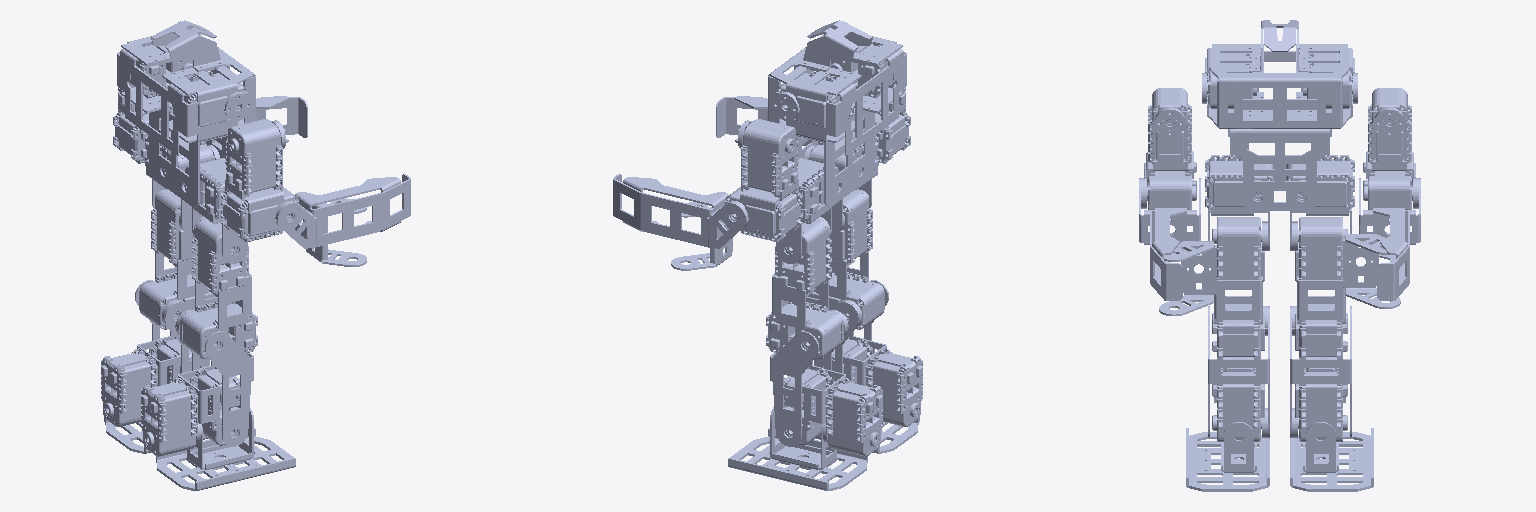
--- Facts derived from the render (not from the file) ---
The picture shows the robot from 3 angles, left to right: view 1: azimuth 30°, elevation 25°; view 2: azimuth 150°, elevation 25°; view 3: azimuth 270°, elevation 25°; orthographic projection.
Model BioloidGP1 with 18 links and 17 joints (16 continuous, 1 fixed), rooted at base_link, posed all joints at 0.
Links seen in each view (by area): view 1: base_link, right_arm_link_2, right_leg_link_2, right_leg_link_4, right_arm_link_3, left_leg_link_2, right_leg_link_5, left_leg_link_4, right_leg_link_3, torso_link, right_leg_link_1, left_arm_link_2 (+5 smaller); view 2: base_link, left_arm_link_2, left_leg_link_2, left_leg_link_4, left_arm_link_3, right_leg_link_2, left_leg_link_5, right_leg_link_4, left_leg_link_3, torso_link, left_leg_link_1, right_arm_link_2 (+5 smaller); view 3: base_link, right_leg_link_2, left_leg_link_2, torso_link, right_arm_link_2, left_arm_link_2, right_leg_link_5, left_leg_link_5, right_arm_link_3, left_arm_link_3, right_leg_link_4, left_leg_link_4 (+6 smaller).
Link boxes in pixels (x1,y1,x2,y2): base_link: (117, 20, 255, 155); right_arm_link_2: (221, 119, 298, 241); right_leg_link_2: (176, 217, 257, 358); right_leg_link_4: (141, 367, 239, 456); right_arm_link_3: (277, 174, 410, 248); left_leg_link_2: (139, 189, 215, 329); right_leg_link_5: (156, 407, 295, 490); left_leg_link_4: (101, 337, 191, 426); right_leg_link_3: (175, 310, 253, 446); torso_link: (149, 108, 227, 207); right_leg_link_1: (185, 158, 247, 263); left_arm_link_2: (113, 87, 169, 163); base_link: (768, 20, 906, 155); left_arm_link_2: (725, 119, 802, 241); left_leg_link_2: (766, 217, 847, 358); left_leg_link_4: (784, 367, 882, 456); left_arm_link_3: (613, 174, 746, 248); right_leg_link_2: (808, 189, 884, 329); left_leg_link_5: (728, 407, 867, 490); right_leg_link_4: (832, 337, 922, 426); left_leg_link_3: (770, 310, 848, 446); torso_link: (796, 108, 874, 207); left_leg_link_1: (776, 158, 838, 263); right_arm_link_2: (854, 87, 910, 163); base_link: (1202, 20, 1357, 128); right_leg_link_2: (1212, 217, 1267, 359); left_leg_link_2: (1292, 217, 1347, 359); torso_link: (1228, 110, 1331, 210); right_arm_link_2: (1141, 88, 1196, 209); left_arm_link_2: (1363, 88, 1418, 209); right_leg_link_5: (1186, 422, 1269, 491); left_leg_link_5: (1290, 422, 1373, 491); right_arm_link_3: (1139, 178, 1200, 300); left_arm_link_3: (1359, 178, 1420, 300); right_leg_link_4: (1212, 357, 1267, 441); left_leg_link_4: (1292, 357, 1347, 441).
Size in the robot's own frame: 0.1955 by 0.204 by 0.3451 metres.
Meshes: 18 distinct files referenced, 18 mesh visuals loaded (18 binary STL).

robot.urdf — BioloidGP1:
<?xml version="1.0" encoding="utf-8"?>
<!-- This URDF was automatically created by SolidWorks to URDF Exporter! Originally created by Stephen Brawner ([email redacted]) 
     Commit Version: 1.5.0-0-g9aa0fdb  Build Version: 1.5.7004.21443
     For more information, please see http://wiki.ros.org/sw_urdf_exporter -->
<robot
  name="BioloidGP1">
  <link
    name="base_link">
    <inertial>
      <origin
        xyz="-0.0035591008299314 -8.90355070053139E-10 0.00276509793124121"
        rpy="0 0 0" />
      <mass
        value="0.112944377177652" />
      <inertia
        ixx="0.000168605700838162"
        ixy="6.06749094591301E-14"
        ixz="-6.6677759445824E-07"
        iyy="4.75792084333204E-05"
        iyz="1.02293920813143E-07"
        izz="0.000181735093916493" />
    </inertial>
    <visual>
      <origin
        xyz="0 0 0"
        rpy="0 0 0" />
      <geometry>
        <mesh
          filename="package://BioloidGP1/meshes/base_link.STL" />
      </geometry>
      <material
        name="">
        <color
          rgba="0.792156862745098 0.819607843137255 0.933333333333333 1" />
      </material>
    </visual>
    <collision>
      <origin
        xyz="0 0 0"
        rpy="0 0 0" />
      <geometry>
        <mesh
          filename="package://BioloidGP1/meshes/base_link.STL" />
      </geometry>
    </collision>
  </link>
  <link
    name="right_arm_link_1">
    <inertial>
      <origin
        xyz="-6.07043906392102E-08 -0.00923206723925009 0.00517864249850522"
        rpy="0 0 0" />
      <mass
        value="0.00402029367652139" />
      <inertia
        ixx="8.53462226825599E-07"
        ixy="1.70481192747438E-12"
        ixz="-1.05162131649618E-12"
        iyy="1.77130321667596E-06"
        iyz="2.51193243950454E-07"
        izz="1.69099459342747E-06" />
    </inertial>
    <visual>
      <origin
        xyz="0 0 0"
        rpy="0 0 0" />
      <geometry>
        <mesh
          filename="package://BioloidGP1/meshes/right_arm_link_1.STL" />
      </geometry>
      <material
        name="">
        <color
          rgba="0.792156862745098 0.819607843137255 0.933333333333333 1" />
      </material>
    </visual>
    <collision>
      <origin
        xyz="0 0 0"
        rpy="0 0 0" />
      <geometry>
        <mesh
          filename="package://BioloidGP1/meshes/right_arm_link_1.STL" />
      </geometry>
    </collision>
  </link>
  <joint
    name="joint_1"
    type="continuous">
    <origin
      xyz="0.00875 -0.05649 0.00275"
      rpy="3.1416 0 3.1416" />
    <parent
      link="base_link" />
    <child
      link="right_arm_link_1" />
    <axis
      xyz="0 1 0" />
    <safety_controller
      k_velocity="0" />
  </joint>
  <link
    name="right_arm_link_2">
    <inertial>
      <origin
        xyz="-0.000528170885429058 -0.035251825072309 0.00311828635700782"
        rpy="0 0 0" />
      <mass
        value="0.0866430354377454" />
      <inertia
        ixx="6.47619241854069E-05"
        ixy="-9.60813329605406E-07"
        ixz="1.88358990654773E-07"
        iyy="1.98963286836706E-05"
        iyz="3.9187564080922E-06"
        izz="5.89621039609704E-05" />
    </inertial>
    <visual>
      <origin
        xyz="0 0 0"
        rpy="0 0 0" />
      <geometry>
        <mesh
          filename="package://BioloidGP1/meshes/right_arm_link_2.STL" />
      </geometry>
      <material
        name="">
        <color
          rgba="0.792156862745098 0.819607843137255 0.933333333333333 1" />
      </material>
    </visual>
    <collision>
      <origin
        xyz="0 0 0"
        rpy="0 0 0" />
      <geometry>
        <mesh
          filename="package://BioloidGP1/meshes/right_arm_link_2.STL" />
      </geometry>
    </collision>
  </link>
  <joint
    name="joint_3"
    type="continuous">
    <origin
      xyz="0 -0.0230095805758343 0.0179999999999891"
      rpy="-1.5707963267949 0 1.5707963267949" />
    <parent
      link="right_arm_link_1" />
    <child
      link="right_arm_link_2" />
    <axis
      xyz="0 0 1" />
    <safety_controller
      k_velocity="0" />
  </joint>
  <link
    name="right_arm_link_3">
    <inertial>
      <origin
        xyz="0.00415752095634415 0.0477168328995841 -0.0163264630771301"
        rpy="0 0 0" />
      <mass
        value="0.0124405169193281" />
      <inertia
        ixx="1.70660909071357E-05"
        ixy="-8.45712099815589E-07"
        ixz="8.65583980393305E-08"
        iyy="3.82847231662494E-06"
        iyz="9.57798432211577E-07"
        izz="1.68735901762123E-05" />
    </inertial>
    <visual>
      <origin
        xyz="0 0 0"
        rpy="0 0 0" />
      <geometry>
        <mesh
          filename="package://BioloidGP1/meshes/right_arm_link_3.STL" />
      </geometry>
      <material
        name="">
        <color
          rgba="0.792156862745098 0.819607843137255 0.933333333333333 1" />
      </material>
    </visual>
    <collision>
      <origin
        xyz="0 0 0"
        rpy="0 0 0" />
      <geometry>
        <mesh
          filename="package://BioloidGP1/meshes/right_arm_link_3.STL" />
      </geometry>
    </collision>
  </link>
  <joint
    name="joint_5"
    type="continuous">
    <origin
      xyz="0 -0.0574 0.0182000000000002"
      rpy="1.5707963267949 0 3.14159265358979" />
    <parent
      link="right_arm_link_2" />
    <child
      link="right_arm_link_3" />
    <axis
      xyz="1 0 0" />
    <safety_controller
      k_velocity="0" />
  </joint>
  <link
    name="left_arm_link_1">
    <inertial>
      <origin
        xyz="-6.07043893763315E-08 -0.00923206723925159 0.00517864249850559"
        rpy="0 0 0" />
      <mass
        value="0.00402029367652138" />
      <inertia
        ixx="8.53462226825601E-07"
        ixy="1.70481193069366E-12"
        ixz="-1.05162131991083E-12"
        iyy="1.77130321667596E-06"
        iyz="2.51193243950455E-07"
        izz="1.69099459342747E-06" />
    </inertial>
    <visual>
      <origin
        xyz="0 0 0"
        rpy="0 0 0" />
      <geometry>
        <mesh
          filename="package://BioloidGP1/meshes/left_arm_link_1.STL" />
      </geometry>
      <material
        name="">
        <color
          rgba="0.792156862745098 0.819607843137255 0.933333333333333 1" />
      </material>
    </visual>
    <collision>
      <origin
        xyz="0 0 0"
        rpy="0 0 0" />
      <geometry>
        <mesh
          filename="package://BioloidGP1/meshes/left_arm_link_1.STL" />
      </geometry>
    </collision>
  </link>
  <joint
    name="joint_2"
    type="continuous">
    <origin
      xyz="0.00875 0.05649 0.00275"
      rpy="3.1416 0 0" />
    <parent
      link="base_link" />
    <child
      link="left_arm_link_1" />
    <axis
      xyz="0 1 0" />
    <safety_controller
      k_velocity="0" />
  </joint>
  <link
    name="left_arm_link_2">
    <inertial>
      <origin
        xyz="0.000496349118212128 -0.0352836468395269 0.00311828635700817"
        rpy="0 0 0" />
      <mass
        value="0.0866430354377454" />
      <inertia
        ixx="6.48839674431359E-05"
        ixy="1.0038567960211E-06"
        ixz="-1.92543807437857E-07"
        iyy="1.98991534231237E-05"
        iyz="3.90314394747216E-06"
        izz="5.90869719581521E-05" />
    </inertial>
    <visual>
      <origin
        xyz="0 0 0"
        rpy="0 0 0" />
      <geometry>
        <mesh
          filename="package://BioloidGP1/meshes/left_arm_link_2.STL" />
      </geometry>
      <material
        name="">
        <color
          rgba="0.792156862745098 0.819607843137255 0.933333333333333 1" />
      </material>
    </visual>
    <collision>
      <origin
        xyz="0 0 0"
        rpy="0 0 0" />
      <geometry>
        <mesh
          filename="package://BioloidGP1/meshes/left_arm_link_2.STL" />
      </geometry>
    </collision>
  </link>
  <joint
    name="joint_4"
    type="continuous">
    <origin
      xyz="0 -0.0230095805758357 0.0179999999999895"
      rpy="-1.5707963267949 0 -1.5707963267949" />
    <parent
      link="left_arm_link_1" />
    <child
      link="left_arm_link_2" />
    <axis
      xyz="0 0 1" />
    <safety_controller
      k_velocity="0" />
  </joint>
  <link
    name="left_arm_link_3">
    <inertial>
      <origin
        xyz="-0.00415756019096622 0.0477168328995843 -0.0163264631919699"
        rpy="0 0 0" />
      <mass
        value="0.0124405169193281" />
      <inertia
        ixx="1.70660909119176E-05"
        ixy="8.45698943693171E-07"
        ixz="-8.65587950005694E-08"
        iyy="3.8284682628244E-06"
        iyz="9.577984940105E-07"
        izz="1.68735861176298E-05" />
    </inertial>
    <visual>
      <origin
        xyz="0 0 0"
        rpy="0 0 0" />
      <geometry>
        <mesh
          filename="package://BioloidGP1/meshes/left_arm_link_3.STL" />
      </geometry>
      <material
        name="">
        <color
          rgba="0.792156862745098 0.819607843137255 0.933333333333333 1" />
      </material>
    </visual>
    <collision>
      <origin
        xyz="0 0 0"
        rpy="0 0 0" />
      <geometry>
        <mesh
          filename="package://BioloidGP1/meshes/left_arm_link_3.STL" />
      </geometry>
    </collision>
  </link>
  <joint
    name="joint_6"
    type="continuous">
    <origin
      xyz="0 -0.0573999999999997 0.018200000000001"
      rpy="1.5707963267949 0 3.14159265358979" />
    <parent
      link="left_arm_link_2" />
    <child
      link="left_arm_link_3" />
    <axis
      xyz="1 0 0" />
    <safety_controller
      k_velocity="0" />
  </joint>
  <link
    name="torso_link">
    <inertial>
      <origin
        xyz="2.63162407811504E-08 0.032409044434122 -0.0013192298485617"
        rpy="0 0 0" />
      <mass
        value="0.0150306588580906" />
      <inertia
        ixx="1.22995746902599E-05"
        ixy="-5.36004120680696E-12"
        ixz="4.57561650473814E-15"
        iyy="1.26743899445148E-05"
        iyz="-4.84169136516325E-07"
        izz="1.42781332295549E-05" />
    </inertial>
    <visual>
      <origin
        xyz="0 0 0"
        rpy="0 0 0" />
      <geometry>
        <mesh
          filename="package://BioloidGP1/meshes/torso_link.STL" />
      </geometry>
      <material
        name="">
        <color
          rgba="0.792156862745098 0.819607843137255 0.933333333333333 1" />
      </material>
    </visual>
    <collision>
      <origin
        xyz="0 0 0"
        rpy="0 0 0" />
      <geometry>
        <mesh
          filename="package://BioloidGP1/meshes/torso_link.STL" />
      </geometry>
    </collision>
  </link>
  <joint
    name="joint_19"
    type="fixed">
    <origin
      xyz="0.00825000000000042 0 -0.0737500000000006"
      rpy="1.5707963267949 0 1.5707963267949" />
    <parent
      link="base_link" />
    <child
      link="torso_link" />
    <axis
      xyz="0 0 0" />
    <safety_controller
      k_velocity="0" />
  </joint>
  <link
    name="right_leg_link_1">
    <inertial>
      <origin
        xyz="-0.0130433686111558 -0.00232565541955651 0.000953578453529058"
        rpy="0 0 0" />
      <mass
        value="0.0465444257122034" />
      <inertia
        ixx="9.99235737792943E-06"
        ixy="-1.71936981719275E-07"
        ixz="-9.99819793167431E-08"
        iyy="1.38273935535504E-05"
        iyz="-1.05427694515852E-07"
        izz="1.4421418206511E-05" />
    </inertial>
    <visual>
      <origin
        xyz="0 0 0"
        rpy="0 0 0" />
      <geometry>
        <mesh
          filename="package://BioloidGP1/meshes/right_leg_link_1.STL" />
      </geometry>
      <material
        name="">
        <color
          rgba="0.792156862745098 0.819607843137255 0.933333333333333 1" />
      </material>
    </visual>
    <collision>
      <origin
        xyz="0 0 0"
        rpy="0 0 0" />
      <geometry>
        <mesh
          filename="package://BioloidGP1/meshes/right_leg_link_1.STL" />
      </geometry>
    </collision>
  </link>
  <joint
    name="joint_9"
    type="continuous">
    <origin
      xyz="-0.0160000000000004 0 0"
      rpy="0 0 0" />
    <parent
      link="torso_link" />
    <child
      link="right_leg_link_1" />
    <axis
      xyz="0 0 1" />
    <safety_controller
      k_velocity="0" />
  </joint>
  <link
    name="right_leg_link_2">
    <inertial>
      <origin
        xyz="-0.0129843064721741 -0.0436689122000604 -0.000466568425913194"
        rpy="0 0 0" />
      <mass
        value="0.0873959718655783" />
      <inertia
        ixx="0.000100908919843482"
        ixy="-9.75038892913115E-08"
        ixz="1.21010276925622E-07"
        iyy="2.02236717680155E-05"
        iyz="-2.2364834493842E-06"
        izz="9.9372950635236E-05" />
    </inertial>
    <visual>
      <origin
        xyz="0 0 0"
        rpy="0 0 0" />
      <geometry>
        <mesh
          filename="package://BioloidGP1/meshes/right_leg_link_2.STL" />
      </geometry>
      <material
        name="">
        <color
          rgba="0.792156862745098 0.819607843137255 0.933333333333333 1" />
      </material>
    </visual>
    <collision>
      <origin
        xyz="0 0 0"
        rpy="0 0 0" />
      <geometry>
        <mesh
          filename="package://BioloidGP1/meshes/right_leg_link_2.STL" />
      </geometry>
    </collision>
  </link>
  <joint
    name="joint_11"
    type="continuous">
    <origin
      xyz="0 -0.0417999999999986 0"
      rpy="0 0 0" />
    <parent
      link="right_leg_link_1" />
    <child
      link="right_leg_link_2" />
    <axis
      xyz="1 0 0" />
    <safety_controller
      k_velocity="0" />
  </joint>
  <link
    name="right_leg_link_3">
    <inertial>
      <origin
        xyz="0.0139999999999993 0.033556383206639 0.0151934897642461"
        rpy="0 0 0" />
      <mass
        value="0.00701486534628873" />
      <inertia
        ixx="5.15587753735926E-06"
        ixy="-9.49897887079065E-20"
        ixz="-2.95555402777655E-20"
        iyy="3.83307916350282E-06"
        iyz="-4.23987865116598E-07"
        izz="7.34905050588702E-06" />
    </inertial>
    <visual>
      <origin
        xyz="0 0 0"
        rpy="0 0 0" />
      <geometry>
        <mesh
          filename="package://BioloidGP1/meshes/right_leg_link_3.STL" />
      </geometry>
      <material
        name="">
        <color
          rgba="0.792156862745098 0.819607843137255 0.933333333333333 1" />
      </material>
    </visual>
    <collision>
      <origin
        xyz="0 0 0"
        rpy="0 0 0" />
      <geometry>
        <mesh
          filename="package://BioloidGP1/meshes/right_leg_link_3.STL" />
      </geometry>
    </collision>
  </link>
  <joint
    name="joint_13"
    type="continuous">
    <origin
      xyz="0 -0.0744000000000002 -0.0145000000000004"
      rpy="0 0 3.14159265358979" />
    <parent
      link="right_leg_link_2" />
    <child
      link="right_leg_link_3" />
    <axis
      xyz="1 0 0" />
    <safety_controller
      k_velocity="0" />
  </joint>
  <link
    name="right_leg_link_4">
    <inertial>
      <origin
        xyz="-0.0133679920617575 0.0211280635838925 0.0130554010006902"
        rpy="0 0 0" />
      <mass
        value="0.0856772222885858" />
      <inertia
        ixx="6.01834815095153E-05"
        ixy="7.30112432602952E-07"
        ixz="9.29072445284373E-08"
        iyy="2.31872456261436E-05"
        iyz="-2.12514847586305E-10"
        izz="5.12094290115094E-05" />
    </inertial>
    <visual>
      <origin
        xyz="0 0 0"
        rpy="0 0 0" />
      <geometry>
        <mesh
          filename="package://BioloidGP1/meshes/right_leg_link_4.STL" />
      </geometry>
      <material
        name="">
        <color
          rgba="0.792156862745098 0.819607843137255 0.933333333333333 1" />
      </material>
    </visual>
    <collision>
      <origin
        xyz="0 0 0"
        rpy="0 0 0" />
      <geometry>
        <mesh
          filename="package://BioloidGP1/meshes/right_leg_link_4.STL" />
      </geometry>
    </collision>
  </link>
  <joint
    name="joint_15"
    type="continuous">
    <origin
      xyz="0 0.075 0.0145000000000001"
      rpy="-1.5707963267949 0 3.14159265358979" />
    <parent
      link="right_leg_link_3" />
    <child
      link="right_leg_link_4" />
    <axis
      xyz="1 0 0" />
    <safety_controller
      k_velocity="0" />
  </joint>
  <link
    name="right_leg_link_5">
    <inertial>
      <origin
        xyz="0.000199999992457831 -0.0271016298640742 0.00578156165290536"
        rpy="0 0 0" />
      <mass
        value="0.0145032303847989" />
      <inertia
        ixx="6.01701851070499E-06"
        ixy="-2.73300513200429E-16"
        ixz="8.77239334526378E-16"
        iyy="1.38658012521916E-05"
        iyz="2.60716928595885E-07"
        izz="9.90489837832122E-06" />
    </inertial>
    <visual>
      <origin
        xyz="0 0 0"
        rpy="0 0 0" />
      <geometry>
        <mesh
          filename="package://BioloidGP1/meshes/right_leg_link_5.STL" />
      </geometry>
      <material
        name="">
        <color
          rgba="0.792156862745098 0.819607843137255 0.933333333333333 1" />
      </material>
    </visual>
    <collision>
      <origin
        xyz="0 0 0"
        rpy="0 0 0" />
      <geometry>
        <mesh
          filename="package://BioloidGP1/meshes/right_leg_link_5.STL" />
      </geometry>
    </collision>
  </link>
  <joint
    name="joint_17"
    type="continuous">
    <origin
      xyz="-0.0138 0 -9.99999999998225E-05"
      rpy="1.5707963267949 0 -1.5707963267949" />
    <parent
      link="right_leg_link_4" />
    <child
      link="right_leg_link_5" />
    <axis
      xyz="1 0 0" />
    <safety_controller
      k_velocity="0" />
  </joint>
  <link
    name="left_leg_link_1">
    <inertial>
      <origin
        xyz="-0.0130433686111557 -0.00238489204053893 -0.000953578453528905"
        rpy="0 0 0" />
      <mass
        value="0.0465444257122034" />
      <inertia
        ixx="9.97936976499089E-06"
        ixy="-1.93169433759584E-07"
        ixz="9.99819793167426E-08"
        iyy="1.38273935535503E-05"
        iyz="1.03644120445204E-07"
        izz="1.44084305935724E-05" />
    </inertial>
    <visual>
      <origin
        xyz="0 0 0"
        rpy="0 0 0" />
      <geometry>
        <mesh
          filename="package://BioloidGP1/meshes/left_leg_link_1.STL" />
      </geometry>
      <material
        name="">
        <color
          rgba="0.792156862745098 0.819607843137255 0.933333333333333 1" />
      </material>
    </visual>
    <collision>
      <origin
        xyz="0 0 0"
        rpy="0 0 0" />
      <geometry>
        <mesh
          filename="package://BioloidGP1/meshes/left_leg_link_1.STL" />
      </geometry>
    </collision>
  </link>
  <joint
    name="joint_10"
    type="continuous">
    <origin
      xyz="0.016 0 0"
      rpy="3.14159265358979 0 -3.14159265358979" />
    <parent
      link="torso_link" />
    <child
      link="left_leg_link_1" />
    <axis
      xyz="0 0 1" />
    <safety_controller
      k_velocity="0" />
  </joint>
  <link
    name="left_leg_link_2">
    <inertial>
      <origin
        xyz="0.0129843064721751 -0.0437004598154196 -0.00049811604135043"
        rpy="0 0 0" />
      <mass
        value="0.0873959718655782" />
      <inertia
        ixx="0.000101075632582722"
        ixy="9.58915748208652E-08"
        ixz="-1.22622591385429E-07"
        iyy="2.02210120031961E-05"
        iyz="-2.15468746232228E-06"
        izz="9.95423231392951E-05" />
    </inertial>
    <visual>
      <origin
        xyz="0 0 0"
        rpy="0 0 0" />
      <geometry>
        <mesh
          filename="package://BioloidGP1/meshes/left_leg_link_2.STL" />
      </geometry>
      <material
        name="">
        <color
          rgba="0.792156862745098 0.819607843137255 0.933333333333333 1" />
      </material>
    </visual>
    <collision>
      <origin
        xyz="0 0 0"
        rpy="0 0 0" />
      <geometry>
        <mesh
          filename="package://BioloidGP1/meshes/left_leg_link_2.STL" />
      </geometry>
    </collision>
  </link>
  <joint
    name="joint_12"
    type="continuous">
    <origin
      xyz="0 -0.0418000000000007 0"
      rpy="3.14159265358979 0 -3.14159265358979" />
    <parent
      link="left_leg_link_1" />
    <child
      link="left_leg_link_2" />
    <axis
      xyz="1 0 0" />
    <safety_controller
      k_velocity="0" />
  </joint>
  <link
    name="left_leg_link_3">
    <inertial>
      <origin
        xyz="-0.0140000000000281 0.0335563832066419 0.0151934897642271"
        rpy="0 0 0" />
      <mass
        value="0.00701486534628871" />
      <inertia
        ixx="5.15587753735925E-06"
        ixy="3.10213673839885E-19"
        ixz="-2.11308140821497E-18"
        iyy="3.83307916350282E-06"
        iyz="-4.23987865116602E-07"
        izz="7.34905050588702E-06" />
    </inertial>
    <visual>
      <origin
        xyz="0 0 0"
        rpy="0 0 0" />
      <geometry>
        <mesh
          filename="package://BioloidGP1/meshes/left_leg_link_3.STL" />
      </geometry>
      <material
        name="">
        <color
          rgba="0.792156862745098 0.819607843137255 0.933333333333333 1" />
      </material>
    </visual>
    <collision>
      <origin
        xyz="0 0 0"
        rpy="0 0 0" />
      <geometry>
        <mesh
          filename="package://BioloidGP1/meshes/left_leg_link_3.STL" />
      </geometry>
    </collision>
  </link>
  <joint
    name="joint_14"
    type="continuous">
    <origin
      xyz="0 -0.0743999999999758 -0.0145000000001237"
      rpy="0 0 -3.14159265358979" />
    <parent
      link="left_leg_link_2" />
    <child
      link="left_leg_link_3" />
    <axis
      xyz="1 0 0" />
    <safety_controller
      k_velocity="0" />
  </joint>
  <link
    name="left_leg_link_4">
    <inertial>
      <origin
        xyz="0.0134001725460156 0.0210958830996282 0.0130554010006903"
        rpy="0 0 0" />
      <mass
        value="0.0856772222885858" />
      <inertia
        ixx="6.02998986098451E-05"
        ixy="-7.89589638530573E-07"
        ixz="-1.13830808202605E-07"
        iyy="2.31895391082044E-05"
        iyz="2.0986762276383E-08"
        izz="5.13281395939001E-05" />
    </inertial>
    <visual>
      <origin
        xyz="0 0 0"
        rpy="0 0 0" />
      <geometry>
        <mesh
          filename="package://BioloidGP1/meshes/left_leg_link_4.STL" />
      </geometry>
      <material
        name="">
        <color
          rgba="0.792156862745098 0.819607843137255 0.933333333333333 1" />
      </material>
    </visual>
    <collision>
      <origin
        xyz="0 0 0"
        rpy="0 0 0" />
      <geometry>
        <mesh
          filename="package://BioloidGP1/meshes/left_leg_link_4.STL" />
      </geometry>
    </collision>
  </link>
  <joint
    name="joint_16"
    type="continuous">
    <origin
      xyz="0 0.0750000000000029 0.0144999999999943"
      rpy="-1.5707963267949 0 3.14159265358979" />
    <parent
      link="left_leg_link_3" />
    <child
      link="left_leg_link_4" />
    <axis
      xyz="1 0 0" />
    <safety_controller
      k_velocity="0" />
  </joint>
  <link
    name="left_leg_link_5">
    <inertial>
      <origin
        xyz="-0.000199999992474054 0.0271016298640751 -0.00578156174805481"
        rpy="0 0 0" />
      <mass
        value="0.0145032303847987" />
      <inertia
        ixx="6.01701851682767E-06"
        ixy="-2.72547278032066E-16"
        ixz="-3.93391427203556E-16"
        iyy="1.38658012583141E-05"
        iyz="2.60716920414772E-07"
        izz="9.9048983783212E-06" />
    </inertial>
    <visual>
      <origin
        xyz="0 0 0"
        rpy="0 0 0" />
      <geometry>
        <mesh
          filename="package://BioloidGP1/meshes/left_leg_link_5.STL" />
      </geometry>
      <material
        name="">
        <color
          rgba="0.792156862745098 0.819607843137255 0.933333333333333 1" />
      </material>
    </visual>
    <collision>
      <origin
        xyz="0 0 0"
        rpy="0 0 0" />
      <geometry>
        <mesh
          filename="package://BioloidGP1/meshes/left_leg_link_5.STL" />
      </geometry>
    </collision>
  </link>
  <joint
    name="joint_18"
    type="continuous">
    <origin
      xyz="0.0138000000000007 0 -9.9999999999989E-05"
      rpy="-1.5707963267949 0 1.5707963267949" />
    <parent
      link="left_leg_link_4" />
    <child
      link="left_leg_link_5" />
    <axis
      xyz="1 0 0" />
    <safety_controller
      k_velocity="0" />
  </joint>
</robot>
